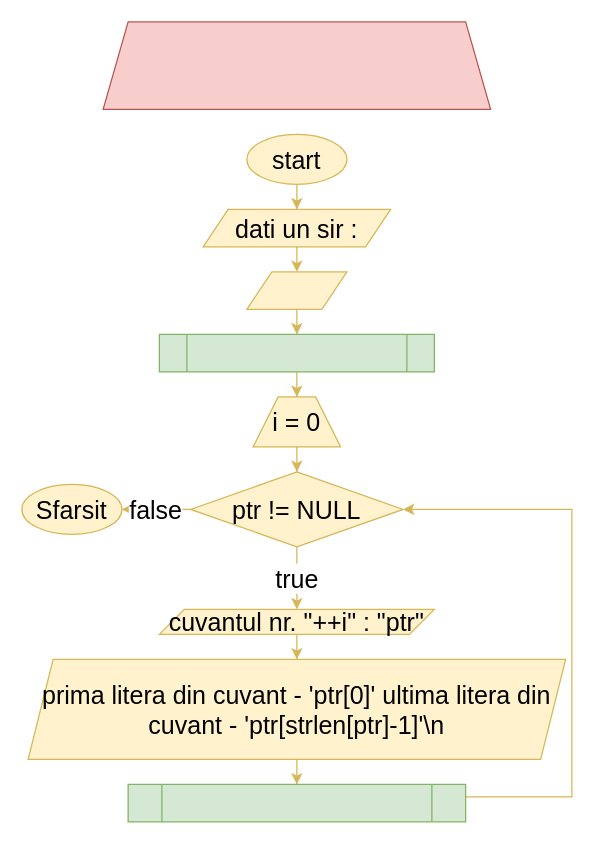
Some shapes in this 604 by 844 pixel diagram are drawn without their labels. Each missing label, with the centre of its shape:
&s: (296,290)
inutil = "`~!@#$%^&*( )_+=-,.<>/?'\"|\\;:1234567890[]{}";: (296,65)
ptr = strtok(NULL, inutil ): (296,802)
ptr = strtok(s, inutil ): (296,352)
